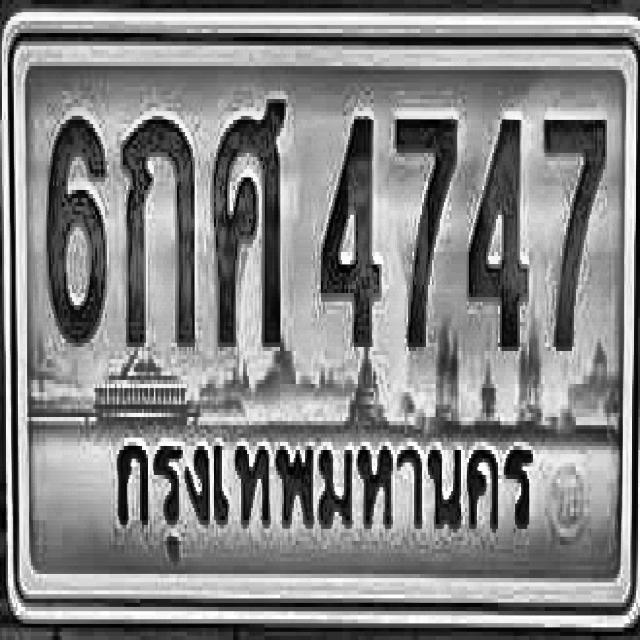license-plate: (1, 14, 640, 628)
